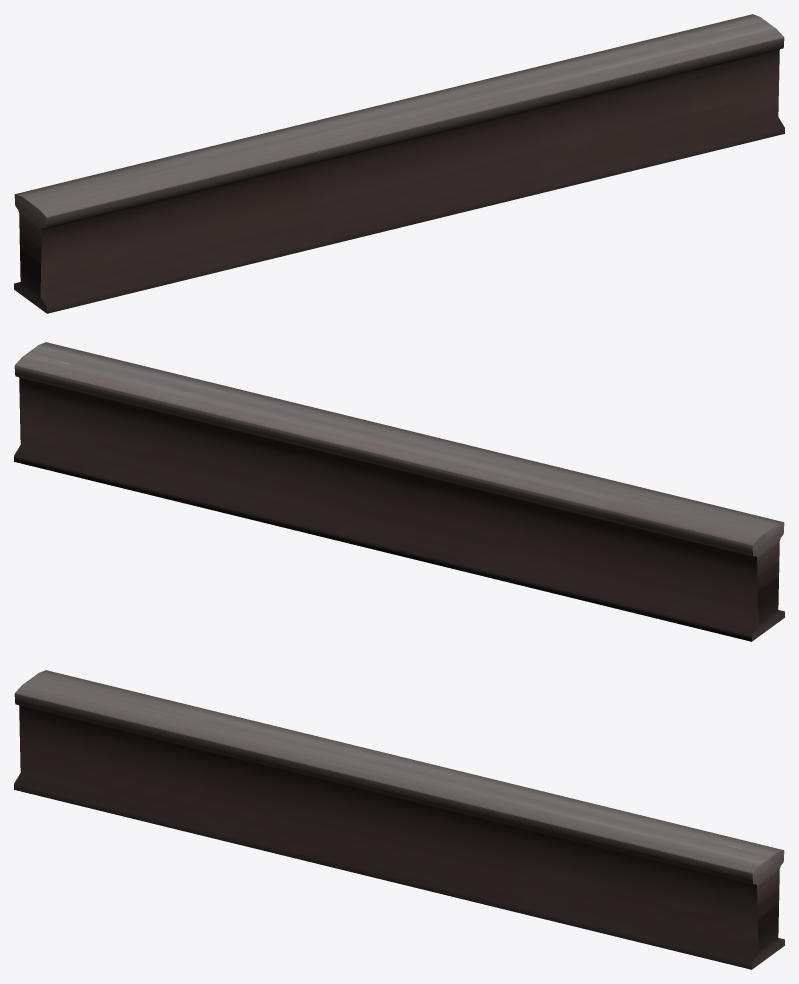
3 views of the same model, one above another, from view 1: azimuth 30°, elevation 25°; view 2: azimuth 150°, elevation 25°; view 3: azimuth 330°, elevation 25° (orthographic).
Visible parts, largest first — view 1: body0_model0_lod0_mesh0; view 2: body0_model0_lod0_mesh0; view 3: body0_model0_lod0_mesh0.
Boxes of the visible parts, x1,y1,x2,y2 form: body0_model0_lod0_mesh0: [14, 14, 784, 313]; body0_model0_lod0_mesh0: [14, 342, 784, 641]; body0_model0_lod0_mesh0: [14, 670, 784, 969].
Size of the model in its own units: 32 by 4.09 by 2.49.
Materials: 1 (1 with a texture image).
